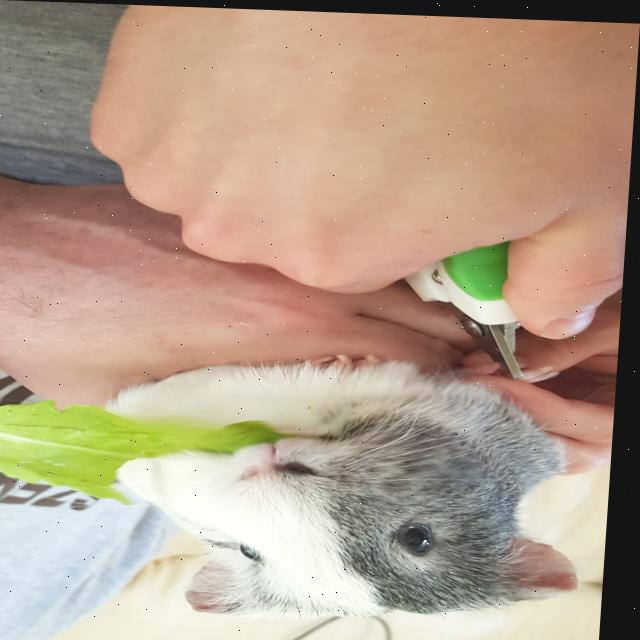guinea pig: (87, 340, 609, 629)
